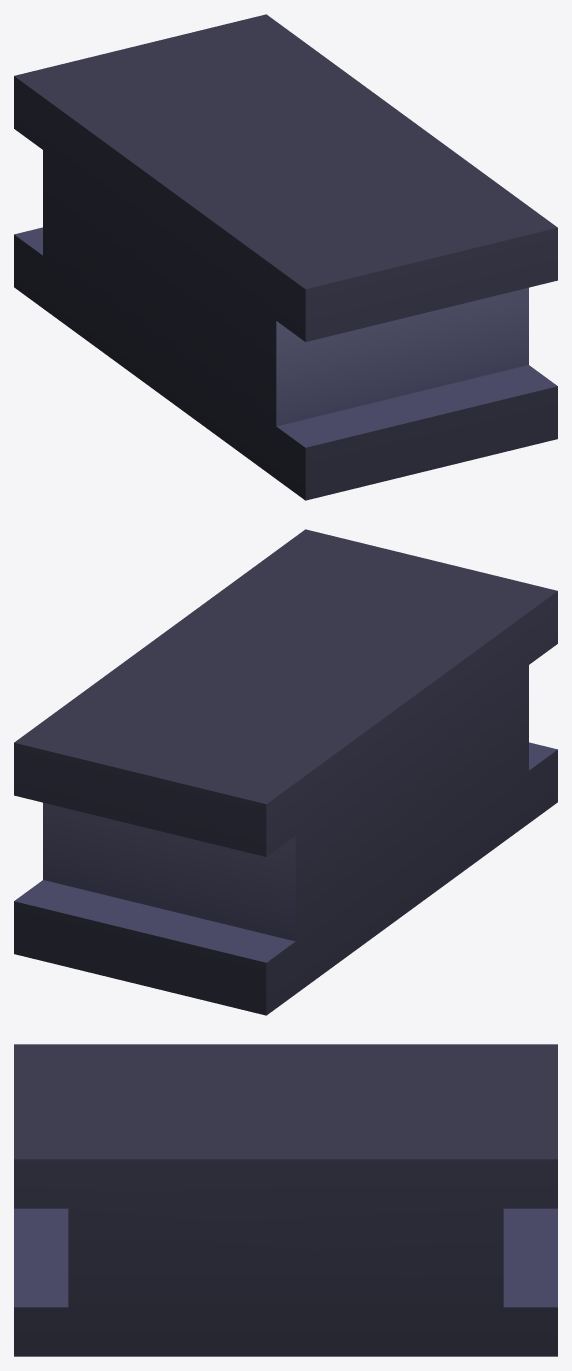
Rendered from conveyor-long-part-middle.glb.
3 views of the same model, one above another, from view 1: azimuth 30°, elevation 25°; view 2: azimuth 150°, elevation 25°; view 3: azimuth 270°, elevation 25° (orthographic). The views are drawn at different scales.
Visible parts, largest first — view 1: conveyor-long-part-middle; view 2: conveyor-long-part-middle; view 3: conveyor-long-part-middle.
Part boxes in pixels (x1,y1,x2,y2): conveyor-long-part-middle: (14, 14, 557, 500); conveyor-long-part-middle: (14, 529, 557, 1015); conveyor-long-part-middle: (14, 1044, 557, 1356).
Bounding box in the file's own units: 0.5 × 0.4 × 1.
